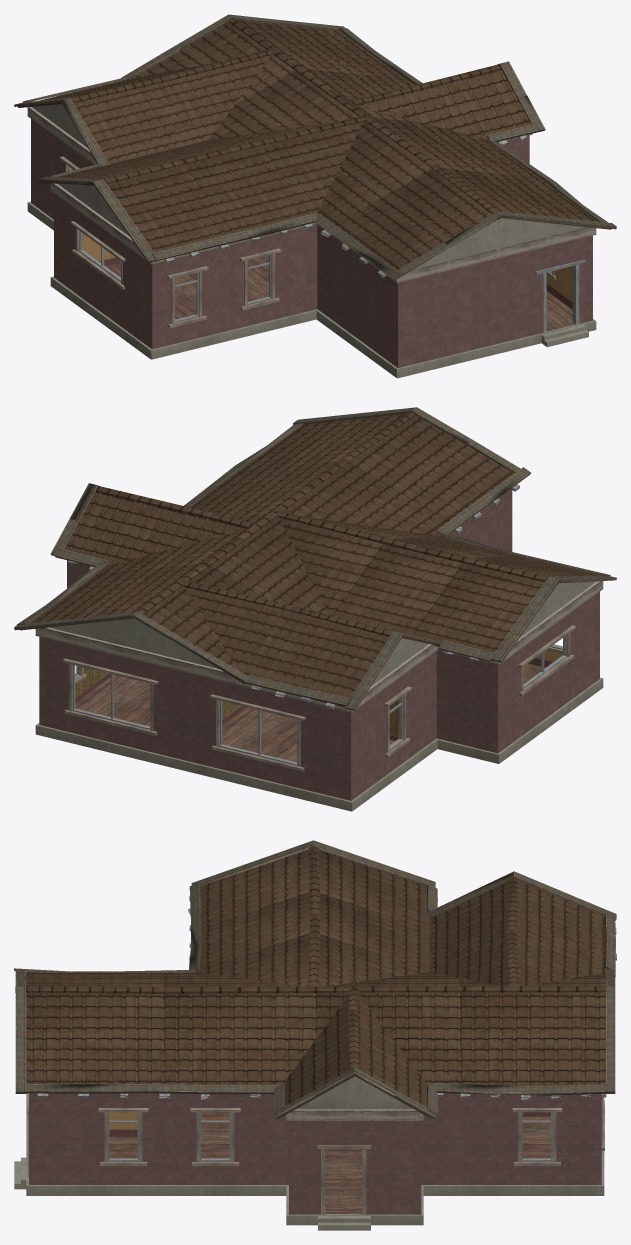
Rendered from BuildingMed012048.glb.
3 views of the same model, one above another, from view 1: azimuth 30°, elevation 25°; view 2: azimuth 150°, elevation 25°; view 3: azimuth 270°, elevation 25° (orthographic). The views are drawn at different scales.
Parts seen in each view (by area): view 1: xiutz_building_med_01_2048; view 2: xiutz_building_med_01_2048; view 3: xiutz_building_med_01_2048.
Boxes of the visible parts, x1,y1,x2,y2 form: xiutz_building_med_01_2048: (14,14,616,378); xiutz_building_med_01_2048: (14,407,616,811); xiutz_building_med_01_2048: (14,840,616,1230).
Bounding box in the file's own units: 22.22 × 6.98 × 24.22.
Materials: 1 (1 with a texture image).
